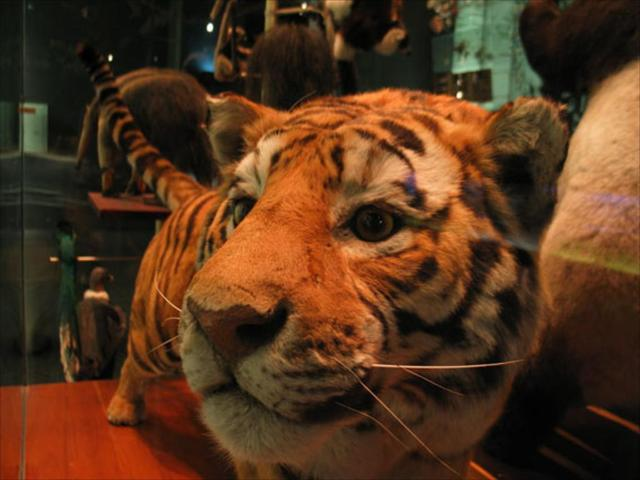tiger: (59, 50, 597, 462)
